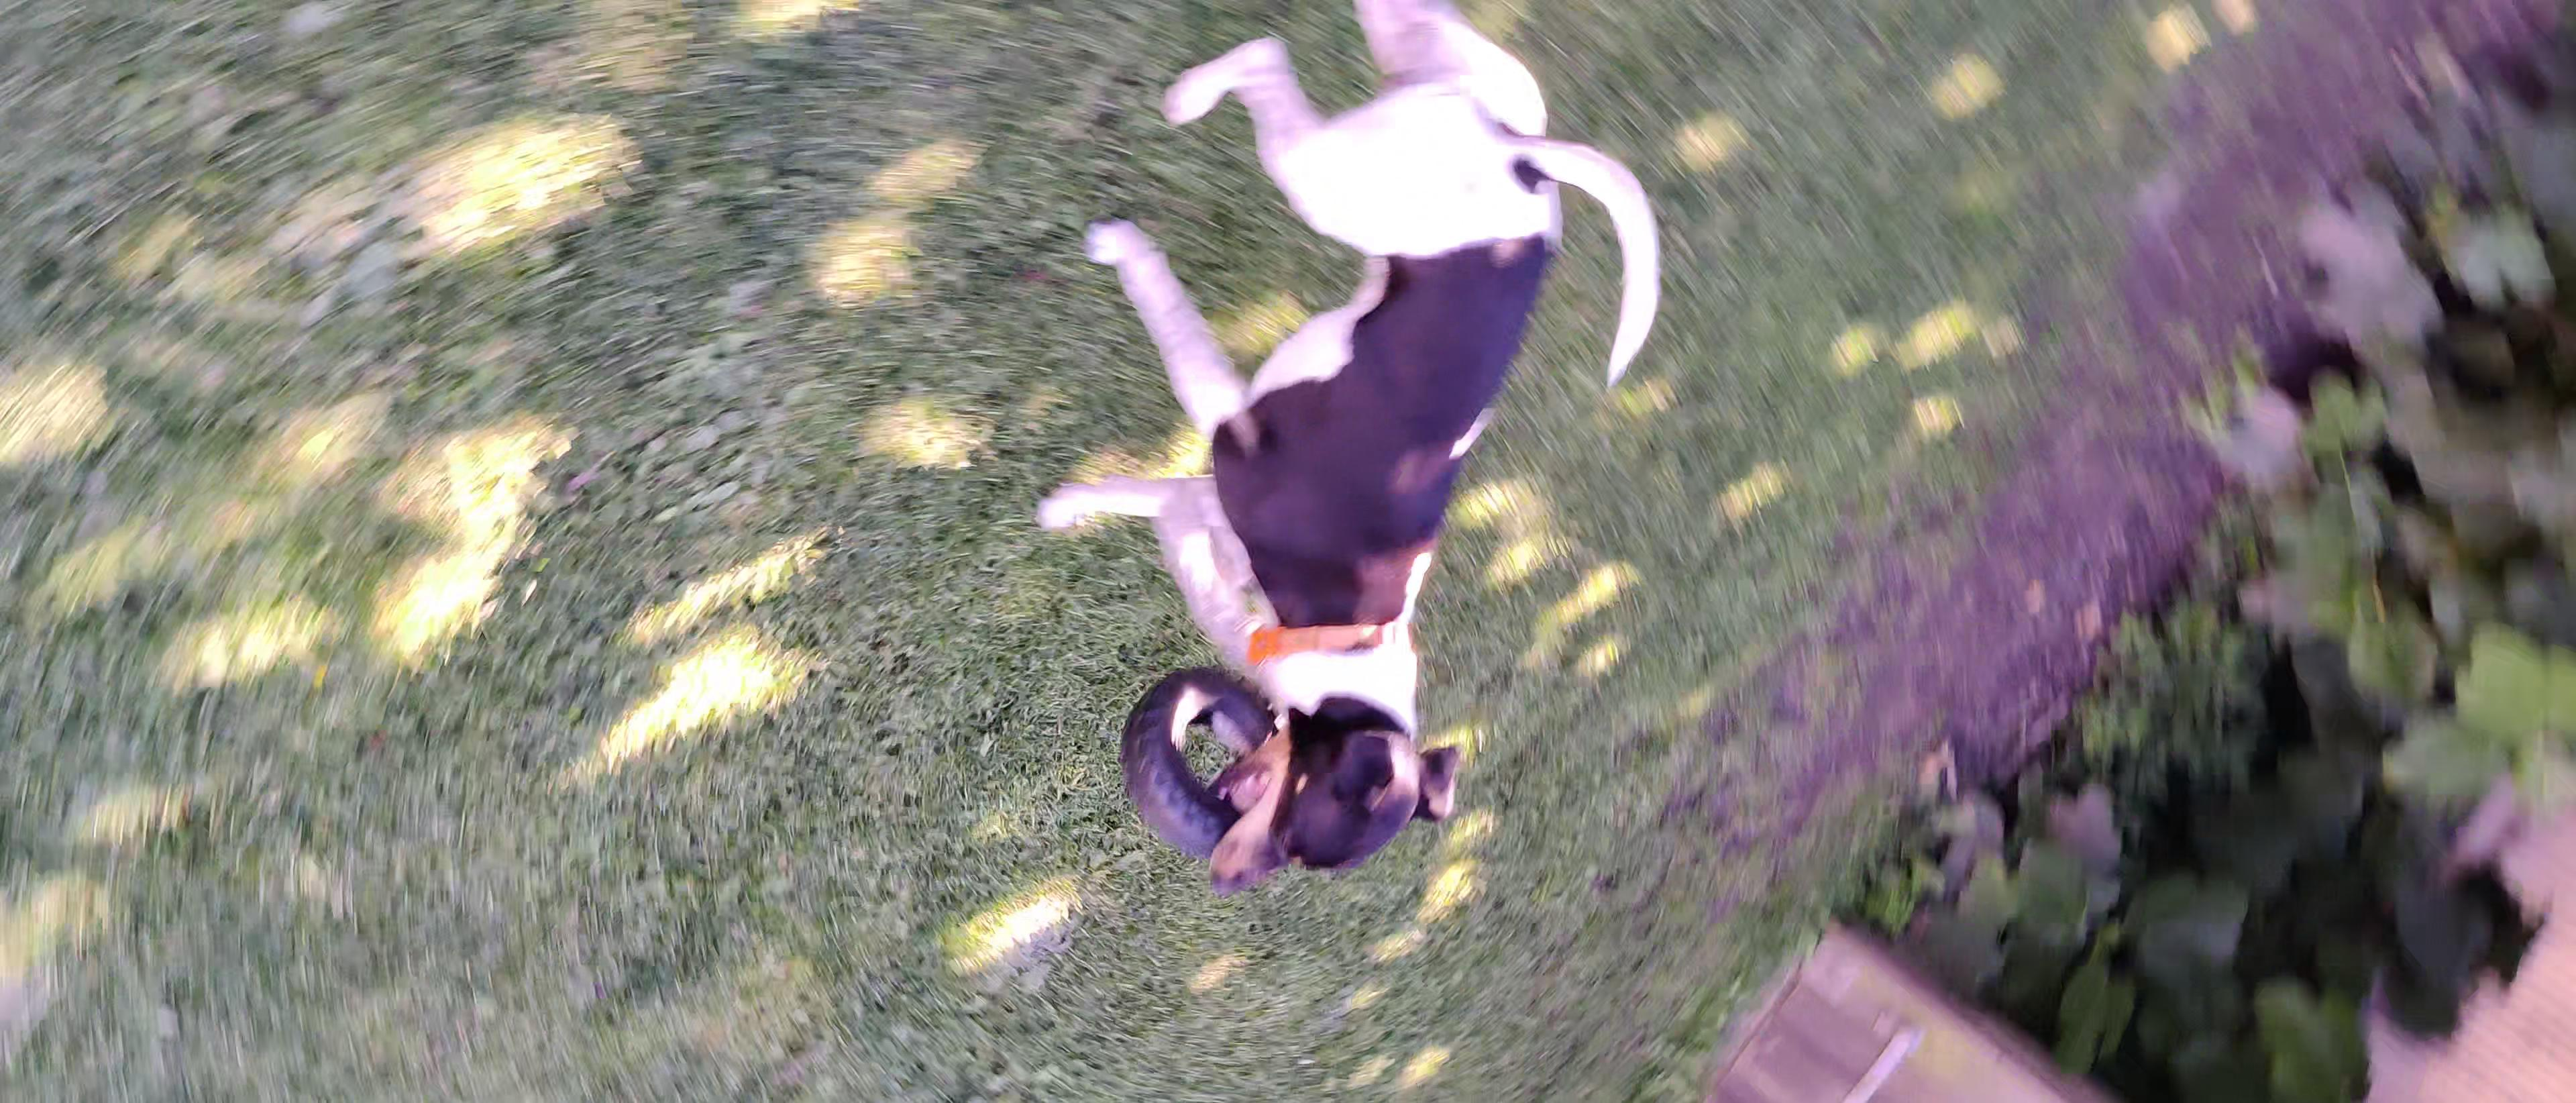Dog: (1009, 0, 1676, 896)
